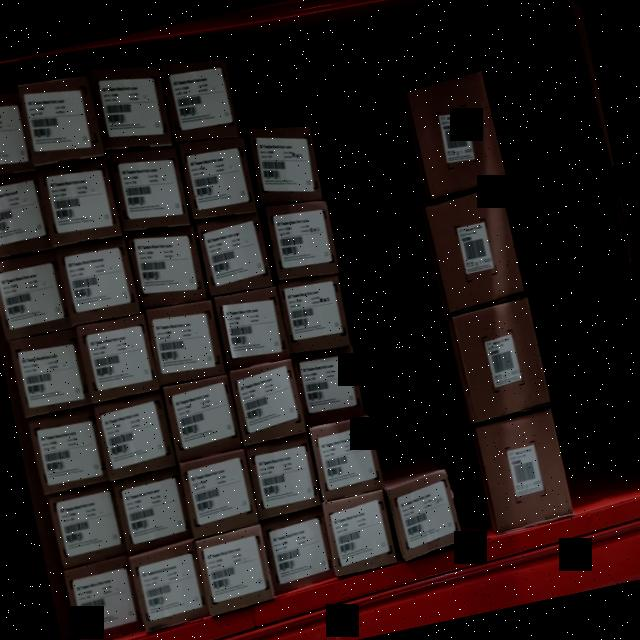box: (453, 300, 551, 420), (476, 412, 574, 530), (408, 76, 505, 193), (428, 191, 524, 308), (57, 234, 139, 324), (20, 73, 100, 165), (10, 330, 90, 420), (77, 315, 156, 403), (162, 54, 240, 142), (129, 546, 207, 632), (28, 411, 106, 496), (91, 68, 171, 150), (40, 162, 120, 244), (196, 528, 274, 611), (63, 557, 141, 640), (110, 147, 189, 228), (127, 228, 206, 308), (164, 376, 240, 458), (147, 304, 225, 382), (178, 454, 256, 532), (94, 398, 170, 476), (182, 138, 256, 218), (246, 438, 320, 518), (0, 252, 68, 339), (251, 122, 323, 204), (322, 494, 398, 571), (310, 416, 383, 496), (197, 216, 272, 292), (215, 288, 288, 366), (232, 364, 304, 442), (116, 474, 189, 550), (50, 490, 124, 564), (280, 272, 350, 350), (389, 479, 460, 553), (296, 346, 365, 422), (264, 514, 334, 588), (268, 204, 336, 274), (0, 174, 49, 258), (0, 92, 30, 175)
